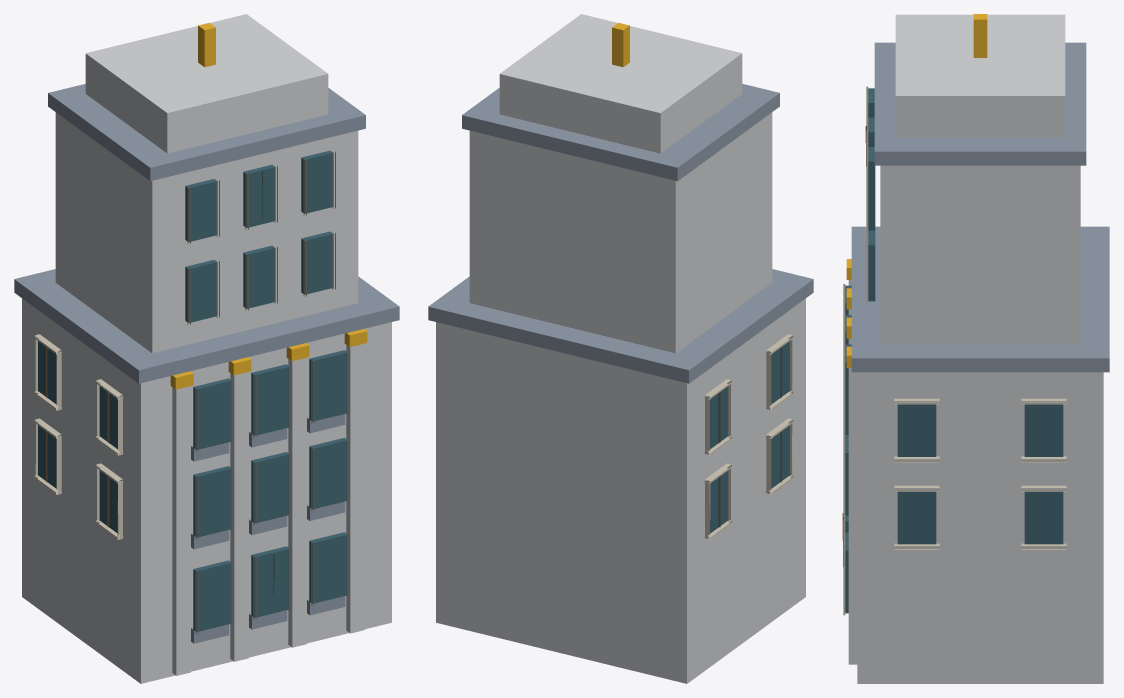
The model's file is city_runtime_04-lod.glb.
3 renders of one model, left to right at view 1: azimuth 30°, elevation 25°; view 2: azimuth 150°, elevation 25°; view 3: azimuth 270°, elevation 25°, orthographic. The views are drawn at different scales.
Parts seen in each view (by area): view 1: Exterior architecture detail 4; view 2: Exterior architecture detail 4; view 3: Exterior architecture detail 4.
Part boxes in pixels (x1=…): Exterior architecture detail 4: x1=14, y1=14, x2=399, y2=683; Exterior architecture detail 4: x1=428, y1=14, x2=813, y2=683; Exterior architecture detail 4: x1=842, y1=14, x2=1109, y2=683.
Bounding box in the file's own units: 8.14 × 17.3 × 6.93.
